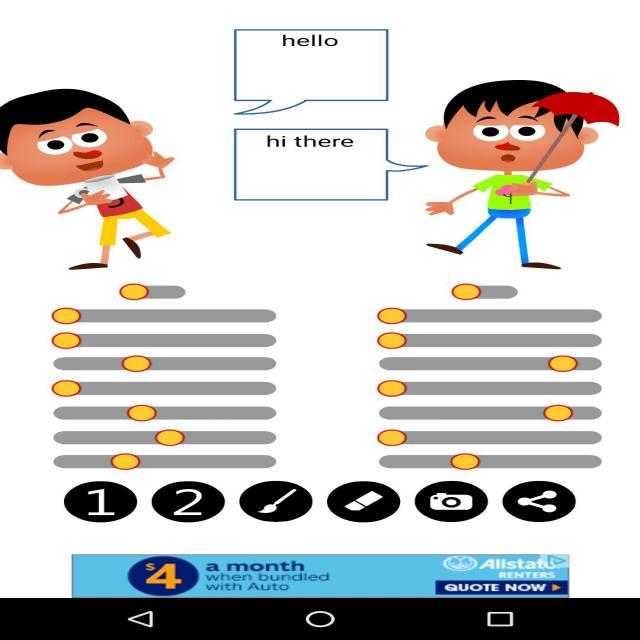button: (29, 279, 282, 471), (374, 280, 614, 471), (234, 477, 317, 529), (406, 478, 493, 525), (62, 476, 141, 526), (151, 478, 228, 528), (322, 479, 402, 526), (502, 476, 574, 524)
image: (424, 63, 621, 278), (0, 73, 177, 274), (64, 545, 583, 598)
text: (260, 132, 374, 163), (264, 34, 362, 55)
